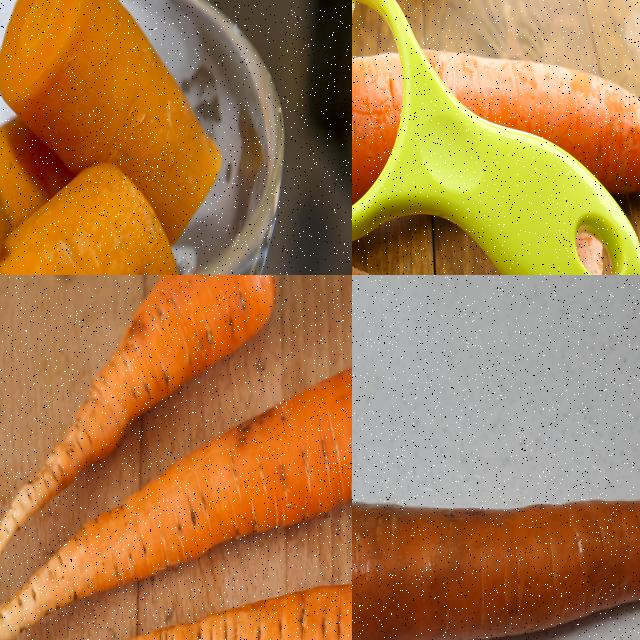carrot: (0, 354, 351, 639), (0, 275, 283, 582), (352, 47, 639, 253), (0, 0, 217, 235), (352, 496, 639, 639), (0, 577, 351, 639), (0, 163, 192, 274)
